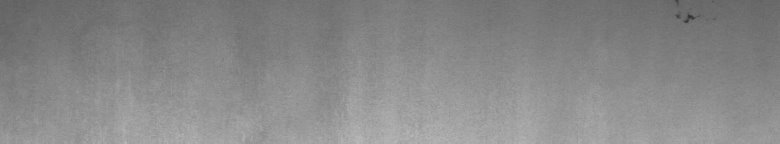fi: (673, 4, 704, 32)
